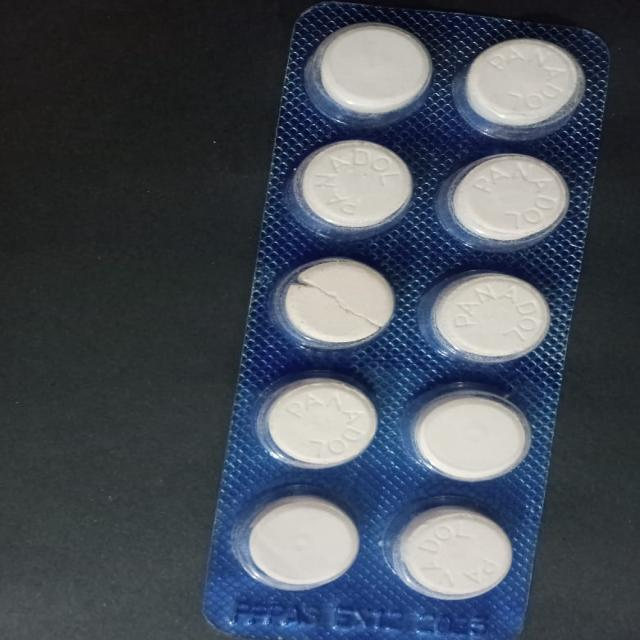defect: (266, 252, 400, 353)
